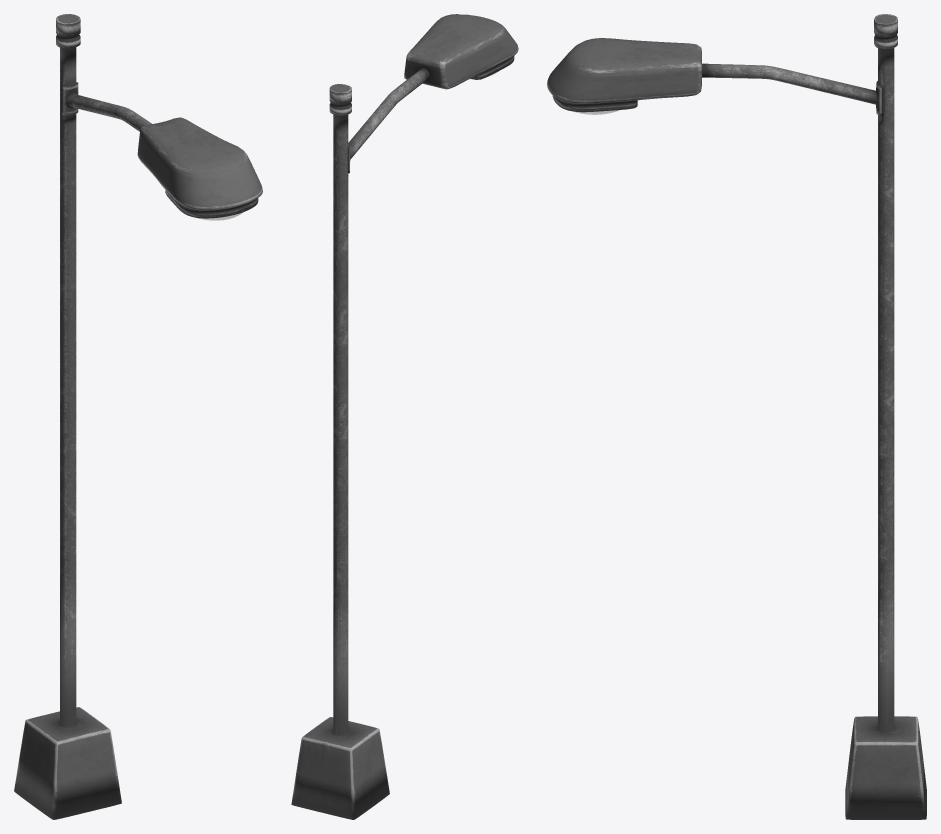
The model's file is StreetLights.fbx.
3 renders of one model, left to right at view 1: azimuth 30°, elevation 25°; view 2: azimuth 150°, elevation 25°; view 3: azimuth 270°, elevation 25°, orthographic. The views are drawn at different scales.
Visible parts, largest first — view 1: StreetLights; view 2: StreetLights; view 3: StreetLights.
Part boxes in pixels (x1,y1,x2,y2): StreetLights: [14, 14, 262, 819]; StreetLights: [291, 14, 518, 819]; StreetLights: [547, 14, 926, 819].
Size of the model in its own units: 133 by 1237 by 544.
2 materials, 2 textured.
